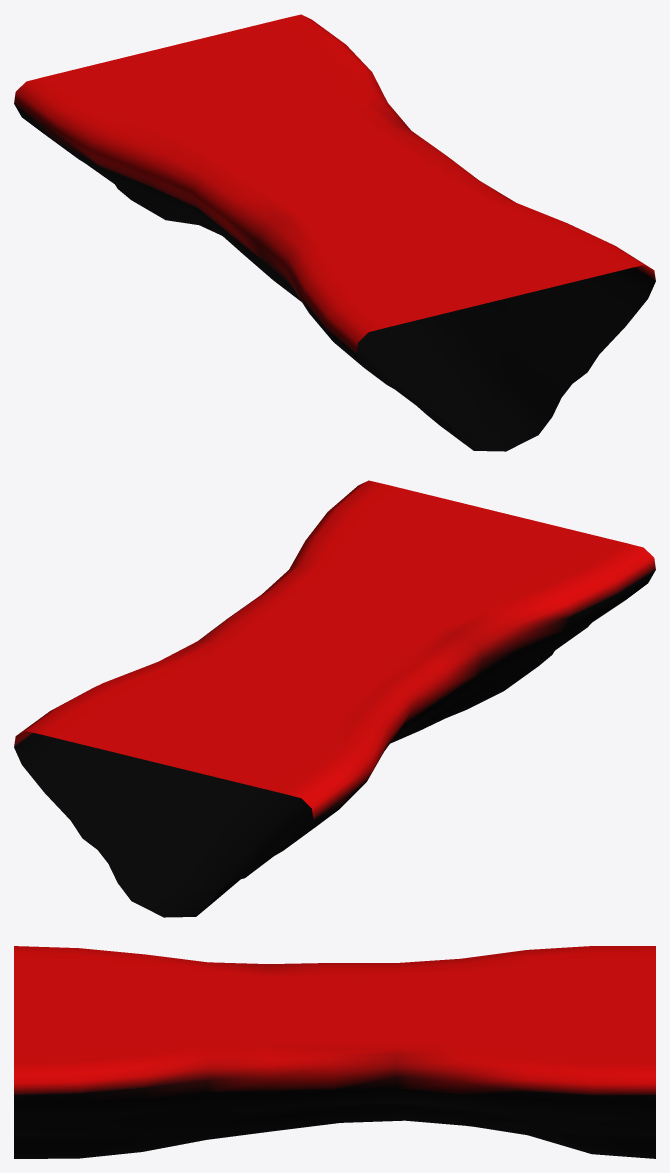
File: CrossingCliff01A 1M Foreground.fbx
3 renders of one model, top to bottom at view 1: azimuth 30°, elevation 25°; view 2: azimuth 150°, elevation 25°; view 3: azimuth 270°, elevation 25°, orthographic. The views are drawn at different scales.
Parts seen in each view (by area): view 1: CrossingCliff01A 1M Foreground; view 2: CrossingCliff01A 1M Foreground; view 3: CrossingCliff01A 1M Foreground.
Part boxes in pixels (x1=…): CrossingCliff01A 1M Foreground: x1=14, y1=14, x2=655, y2=451; CrossingCliff01A 1M Foreground: x1=14, y1=480, x2=655, y2=917; CrossingCliff01A 1M Foreground: x1=14, y1=946, x2=655, y2=1158.
Bounding box in the file's own units: 1.01 × 0.4931 × 2.
